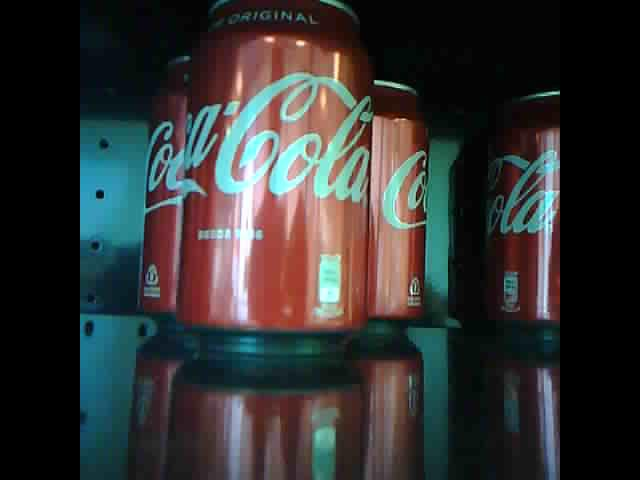coca cola: (176, 1, 375, 355), (482, 84, 560, 336), (133, 44, 190, 340), (366, 69, 427, 336)
